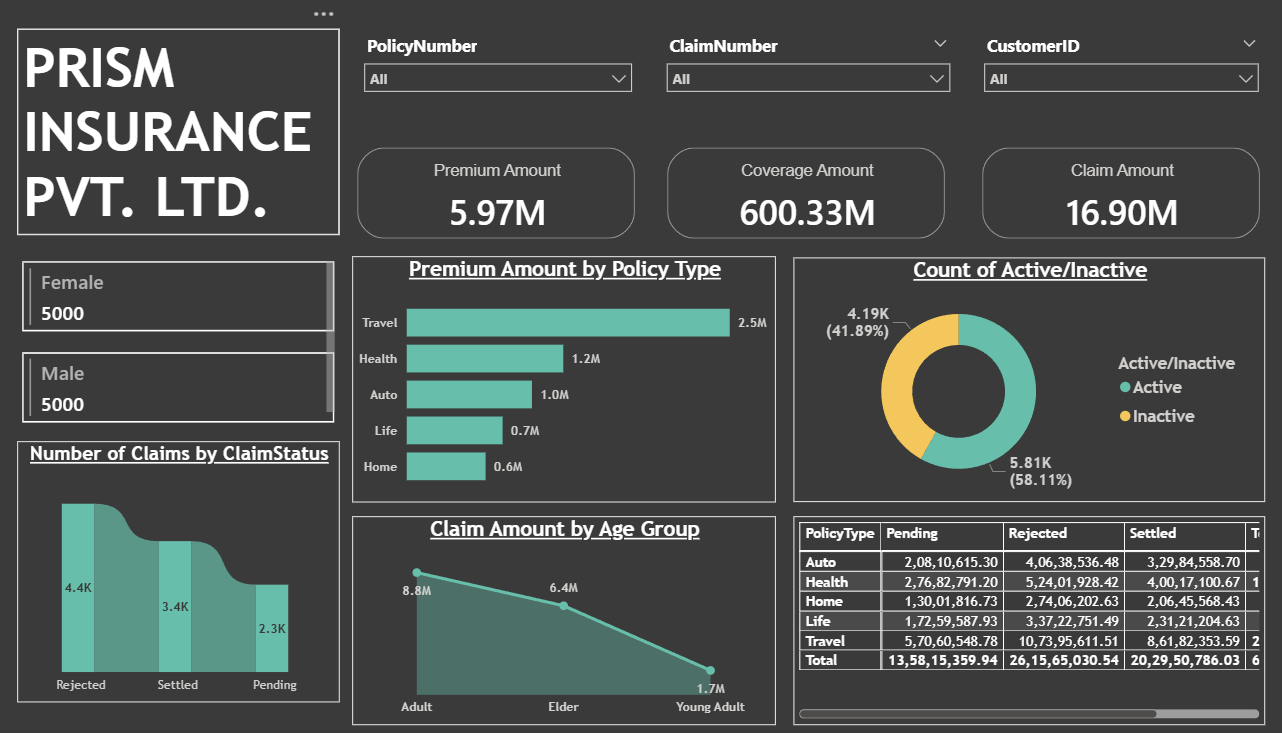

Layout of this report page (visuals, bound fields, positions):
{"tool":"powerbi","page":{"name":"Page 1","canvas":[1280,720],"ordinal":0},"visuals":[{"type":"slicer","fields":{"Values":["InsuranceData.PolicyNumber"]},"box":[344.8,32.9,278.6,100.2],"z":0},{"type":"slicer","fields":{"Values":["InsuranceData.ClaimNumber"]},"box":[637.1,32.9,293.7,100.2],"z":1000},{"type":"slicer","fields":{"Values":["InsuranceData.CustomerID"]},"box":[943.7,32.9,285.4,100.2],"z":2000},{"type":"textbox","box":[20.6,32.9,311.5,199],"z":3000},{"type":"cardVisual","fields":{"Data":["Sum(InsuranceData.PremiumAmount)"]},"box":[344.4,142.7,278.6,98.8],"z":4000},{"type":"cardVisual","fields":{"Data":["Sum(InsuranceData.CoverageAmount)"]},"box":[643.6,142.7,278.6,98.8],"z":5000},{"type":"cardVisual","fields":{"Data":["Sum(InsuranceData.ClaimAmount)"]},"box":[947.5,142.7,278.6,98.8],"z":6000},{"type":"multiRowCard","fields":{"Values":["InsuranceData.Gender","CountNonNull(InsuranceData.Gender)"]},"box":[20.5,252.1,311.3,170.1],"z":7000},{"type":"ribbonChart","title":"Number of Claims by ClaimStatus","fields":{"Category":["InsuranceData.ClaimStatus"],"Y":["CountNonNull(InsuranceData.ClaimStatus)"]},"box":[20.5,430.7,311.3,252.1],"z":8000},{"type":"barChart","title":"Premium Amount by Policy Type","fields":{"Category":["InsuranceData.PolicyType"],"Y":["Sum(InsuranceData.PremiumAmount)"]},"box":[344.4,252.5,408.9,237.4],"z":9000},{"type":"lineChart","title":"Claim Amount by Age Group","fields":{"Category":["InsuranceData.Age Group"],"Y":["Sum(InsuranceData.ClaimAmount)"]},"box":[344.4,503.6,408.9,201.7],"z":10000},{"type":"donutChart","title":"Count of Active/Inactive","fields":{"Category":["InsuranceData.Active/Inactive"],"Y":["CountNonNull(InsuranceData.Active/Inactive)"]},"box":[769.8,253.9,455.6,236],"z":11000},{"type":"pivotTable","fields":{"Values":["Sum(InsuranceData.CoverageAmount)"],"Rows":["InsuranceData.PolicyType"],"Columns":["InsuranceData.ClaimStatus"]},"box":[769.8,503.6,455.6,201.7],"z":12000}]}

Visuals, with their boxes in screenshot pixels (x1, y1, x2, y2), scaled from the page's 1280x720 canvas onto the 1282x733 screenshot:
slicer - InsuranceData.PolicyNumber: <region>345, 33, 624, 136</region>
slicer - InsuranceData.ClaimNumber: <region>638, 33, 932, 136</region>
slicer - InsuranceData.CustomerID: <region>945, 33, 1231, 136</region>
textbox: <region>21, 33, 333, 236</region>
cardVisual - Sum(InsuranceData.PremiumAmount): <region>345, 145, 624, 246</region>
cardVisual - Sum(InsuranceData.CoverageAmount): <region>645, 145, 924, 246</region>
cardVisual - Sum(InsuranceData.ClaimAmount): <region>949, 145, 1228, 246</region>
multiRowCard - InsuranceData.Gender x CountNonNull(InsuranceData.Gender): <region>21, 257, 332, 430</region>
"Number of Claims by ClaimStatus" ribbonChart: <region>21, 438, 332, 695</region>
"Premium Amount by Policy Type" barChart: <region>345, 257, 754, 499</region>
"Claim Amount by Age Group" lineChart: <region>345, 513, 754, 718</region>
"Count of Active/Inactive" donutChart: <region>771, 258, 1227, 499</region>
pivotTable - Sum(InsuranceData.CoverageAmount) x InsuranceData.PolicyType: <region>771, 513, 1227, 718</region>
